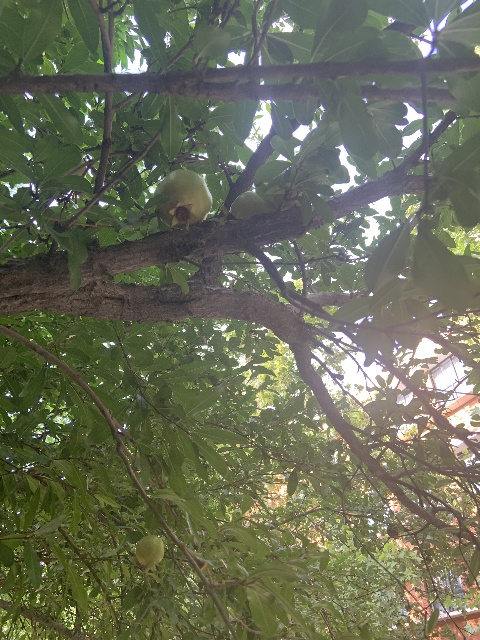mid-growth: (154, 168, 211, 230), (215, 191, 273, 222), (135, 535, 164, 576)
